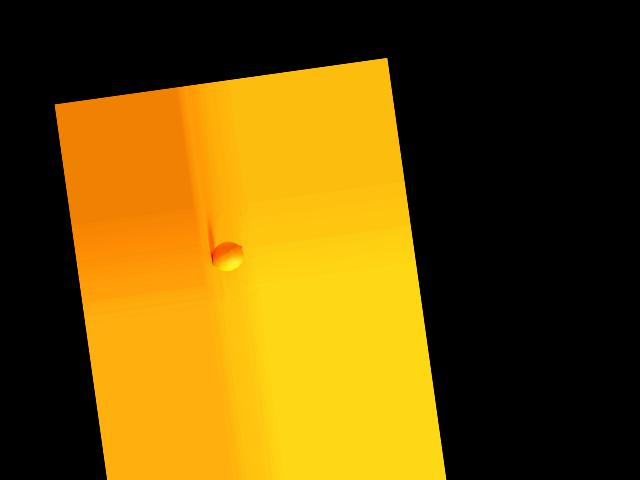lemon: (208, 236, 250, 280)
